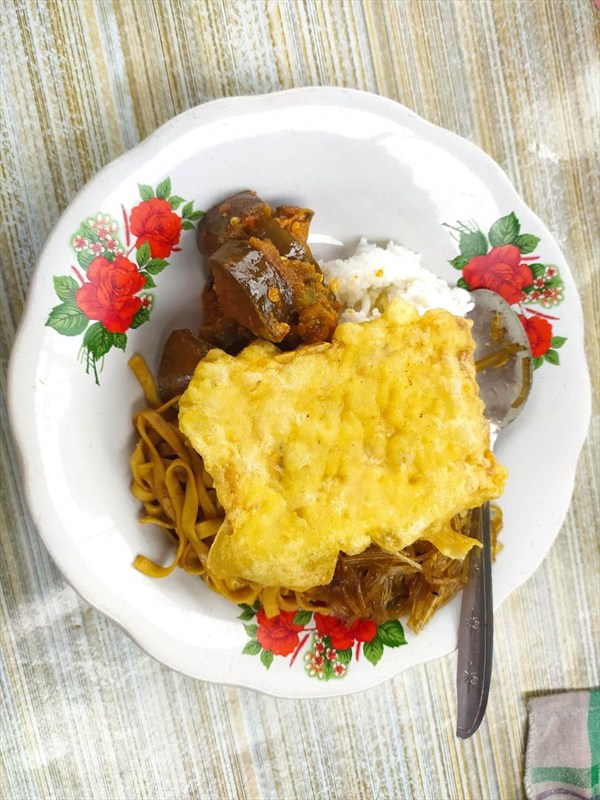Tempe Goreng: (110, 192, 527, 661)
